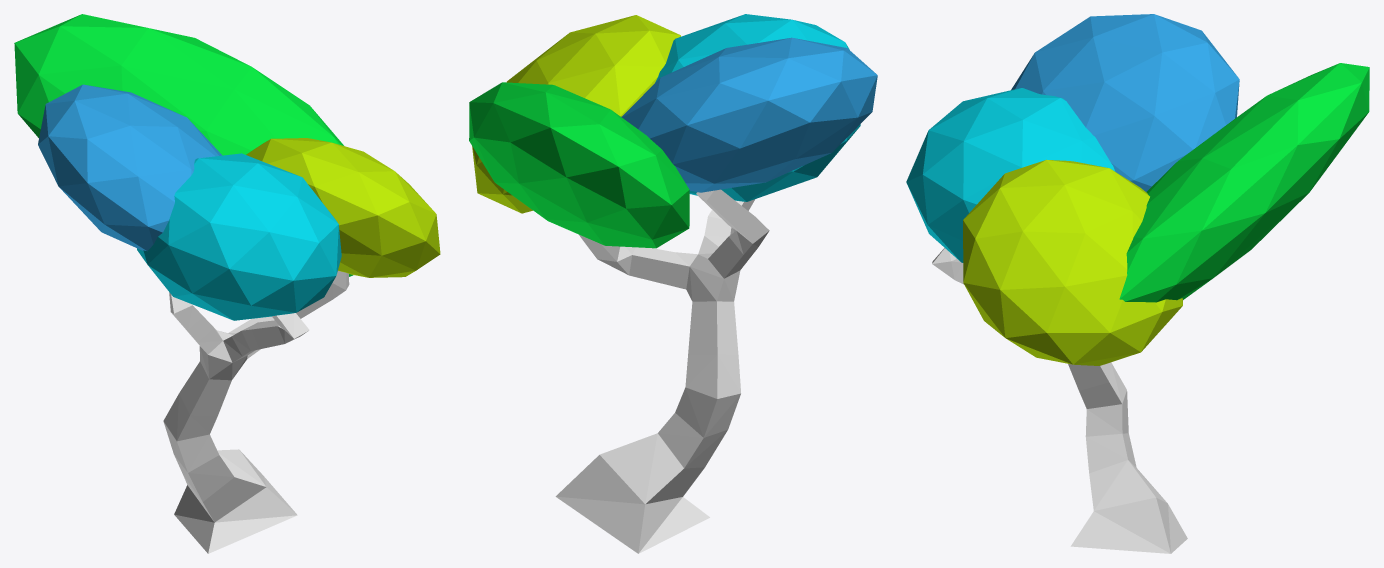
Rendered from tree5.fbx.
The picture shows the model from 3 angles, left to right: view 1: azimuth 30°, elevation 25°; view 2: azimuth 150°, elevation 25°; view 3: azimuth 270°, elevation 25°; orthographic projection. The views are drawn at different scales.
Visible parts, largest first — view 1: tree5; view 2: tree5; view 3: tree5.
Part boxes in pixels (box(x1,y1,x2,y2)): tree5: box(14, 14, 440, 553); tree5: box(469, 14, 877, 553); tree5: box(906, 14, 1369, 553).
Bounding box in the file's own units: 564 × 706 × 636.
